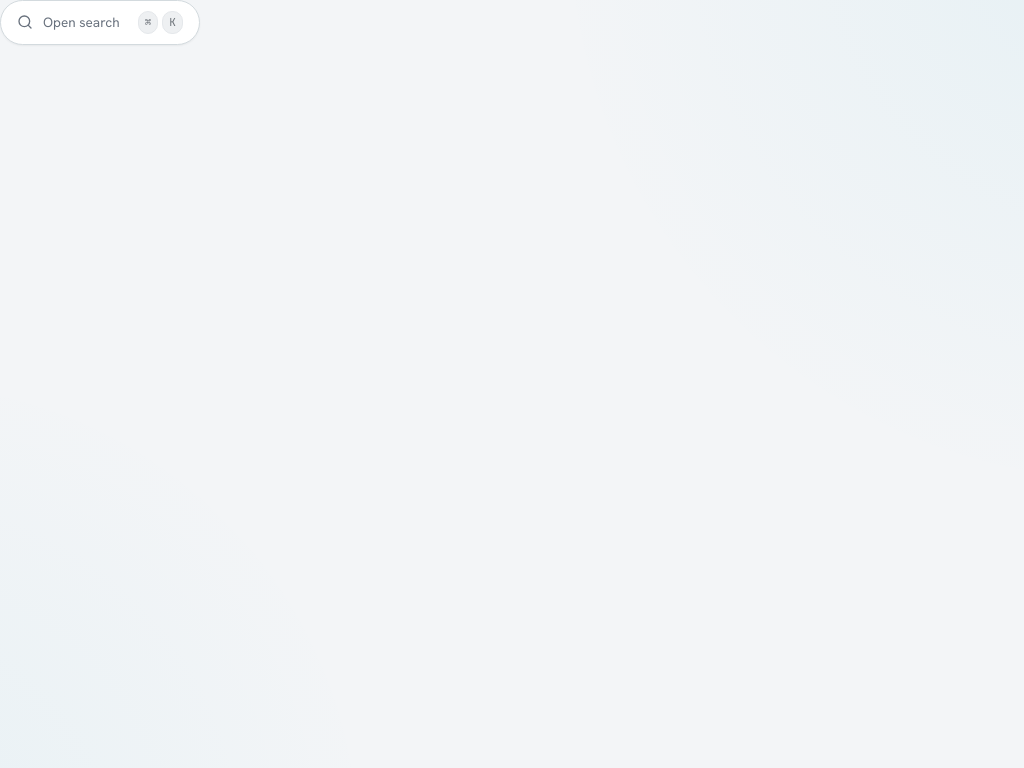
Test: CommandPalette favorites (#231) › drops a persisted favorite whose item no longer exists
This screenshot has width=1024, height=768.
Click the button "Open search ⌘ K": (100, 22) x1=0 y1=0 x2=200 y2=44
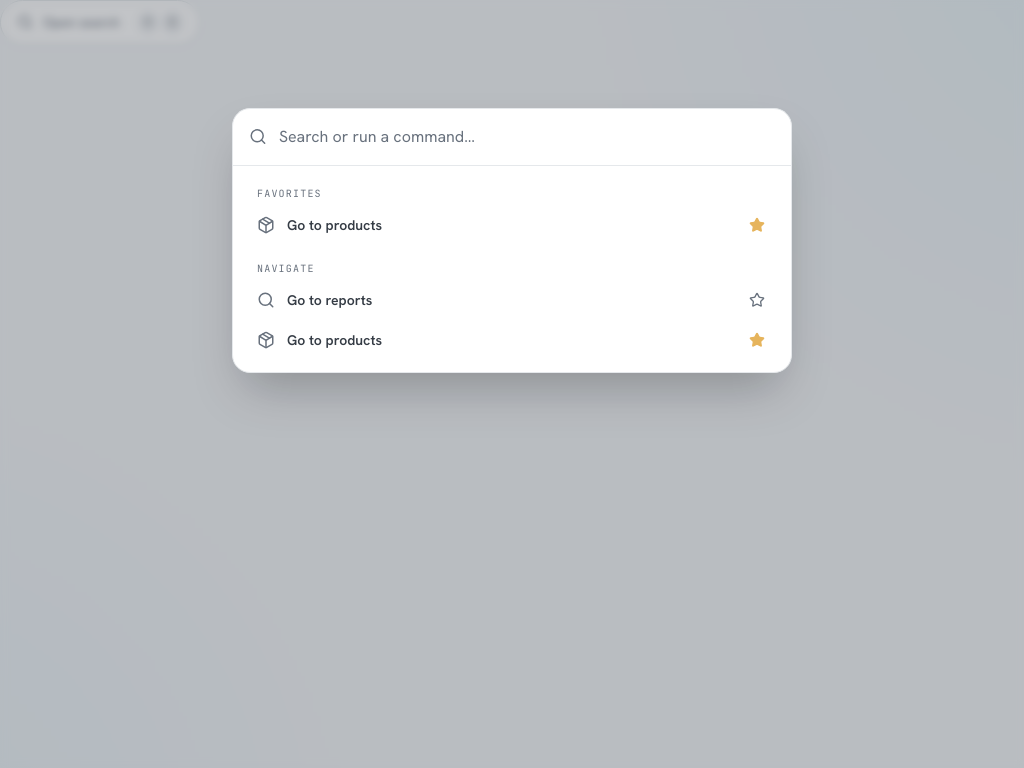
Result: the text "Favorites" is shown at x1=257 y1=186 x2=322 y2=200
Result: the number of options "Go to products" is 2 at x1=245 y1=204 x2=739 y2=244; x1=245 y1=320 x2=739 y2=360
